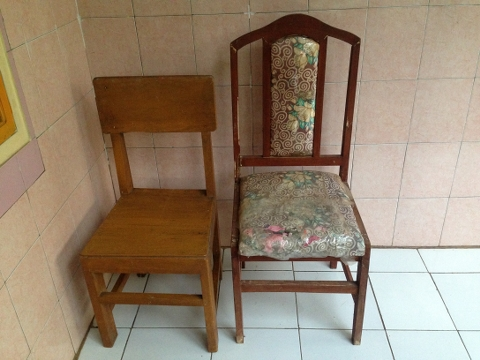kursi: (230, 13, 371, 344), (80, 76, 224, 353)
